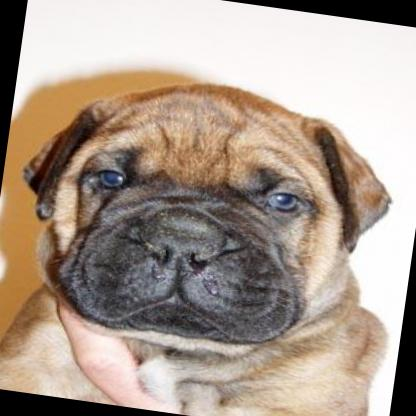bull_mastiff: (0, 51, 416, 416)
